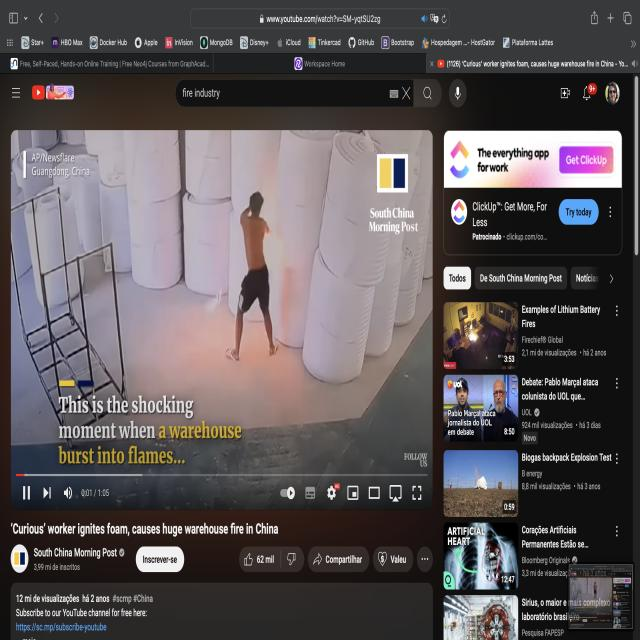Fogo: (215, 140, 329, 392)
